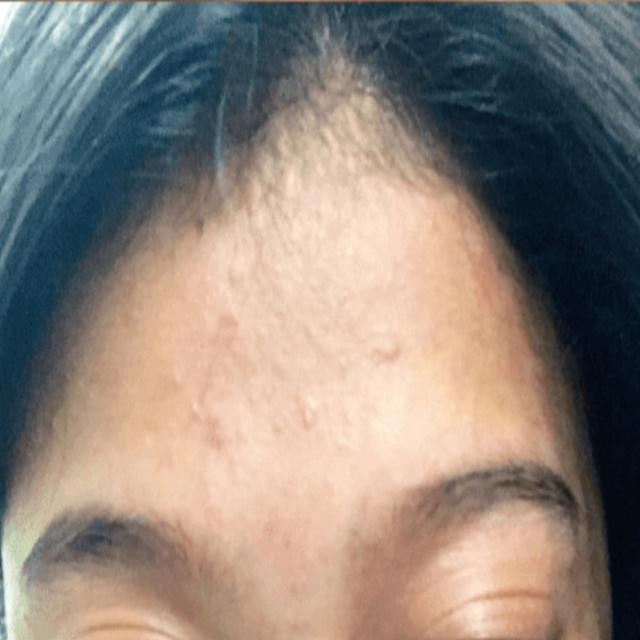fungal: (160, 287, 358, 475)
